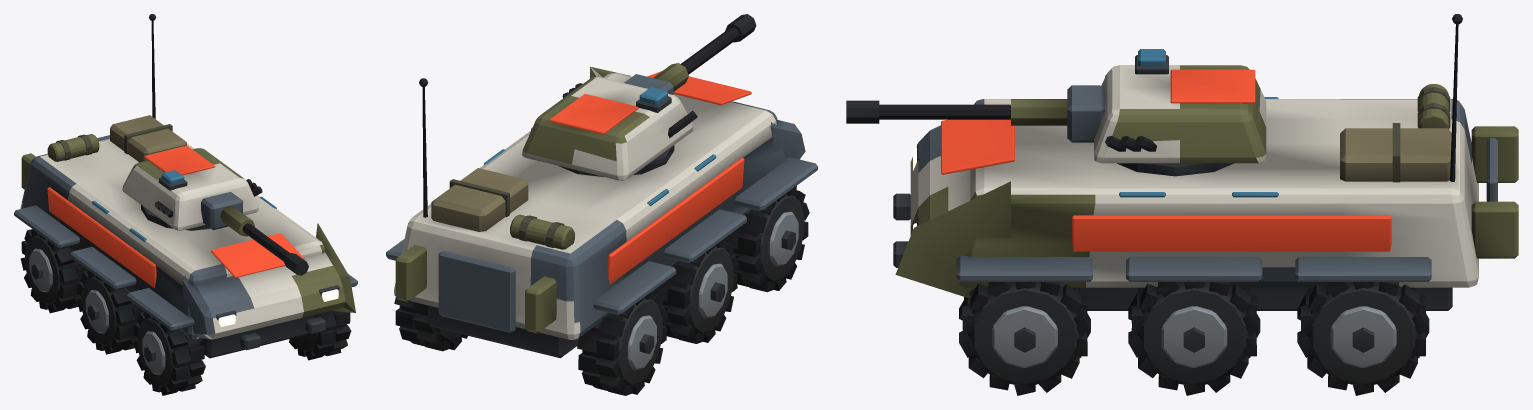
Rendered from lynx.glb.
3 views of the same model, side by side, from view 1: azimuth 30°, elevation 25°; view 2: azimuth 150°, elevation 25°; view 3: azimuth 270°, elevation 25° (orthographic). The views are drawn at different scales.
Parts seen in each view (by area): view 1: geo_body, geo_turret, geo_wheel_front, geo_wheel_rear, geo_wheel_mid, geo_barrel; view 2: geo_body, geo_turret, geo_wheel_rear, geo_wheel_front, geo_wheel_mid, geo_barrel; view 3: geo_body, geo_turret, geo_wheel_mid, geo_wheel_front, geo_wheel_rear, geo_barrel.
Boxes of the visible parts, <box> form: geo_body: <box>14,14,357,358</box>; geo_turret: <box>122,145,262,230</box>; geo_wheel_front: <box>133,310,351,395</box>; geo_wheel_rear: <box>20,229,88,313</box>; geo_wheel_mid: <box>77,270,144,354</box>; geo_barrel: <box>220,206,308,275</box>; geo_body: <box>386,66,817,358</box>; geo_turret: <box>522,74,697,180</box>; geo_wheel_rear: <box>394,289,667,395</box>; geo_wheel_front: <box>725,186,809,292</box>; geo_wheel_mid: <box>655,237,738,343</box>; geo_barrel: <box>653,14,756,91</box>; geo_body: <box>893,14,1518,310</box>; geo_turret: <box>1067,49,1266,176</box>; geo_wheel_mid: <box>1128,282,1260,395</box>; geo_wheel_front: <box>959,282,1090,395</box>; geo_wheel_rear: <box>1297,282,1429,395</box>; geo_barrel: <box>846,99,1067,125</box>.
Size of the model in its own units: 3.48 by 4.2 by 7.15.
